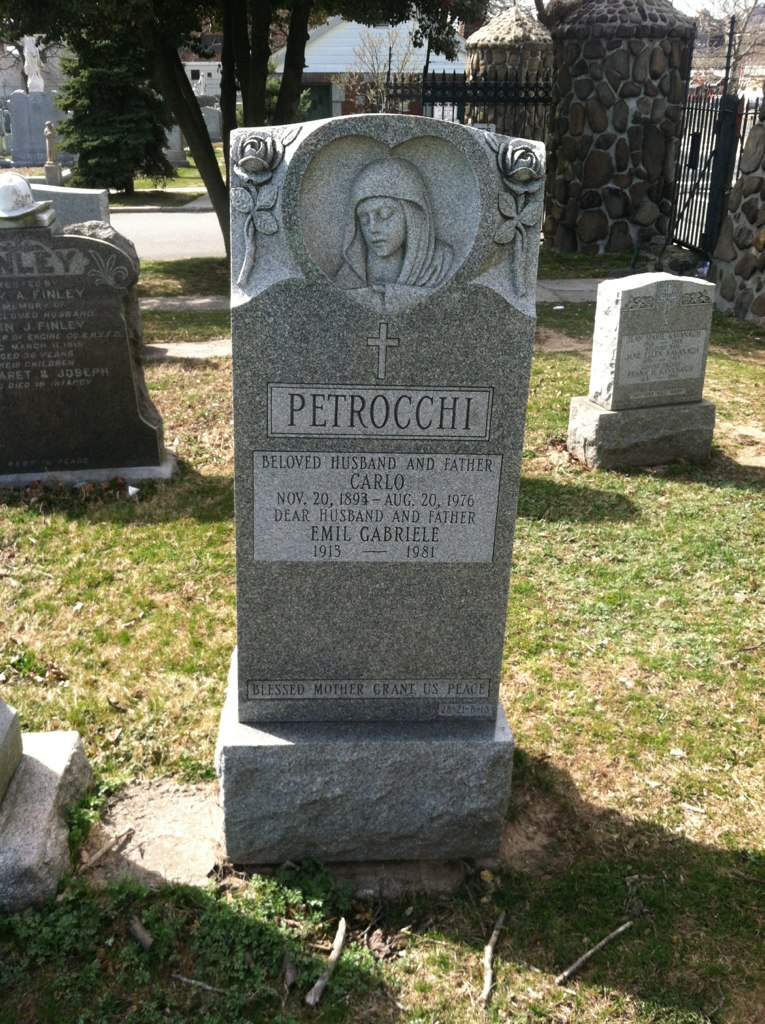upright: (209, 103, 546, 877)
